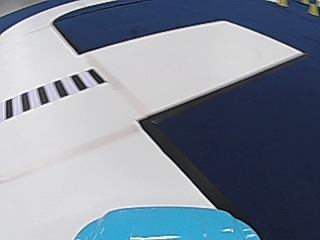CrossWalk: (5, 70, 102, 116)
